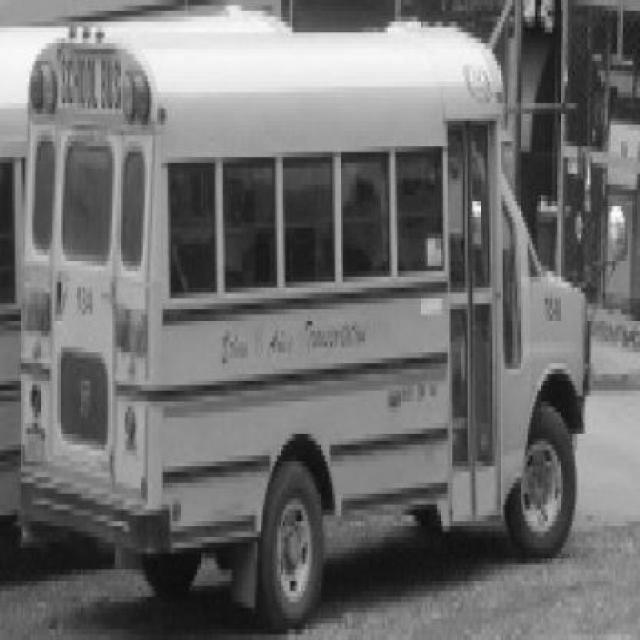Bus- Small: (19, 21, 589, 634)
